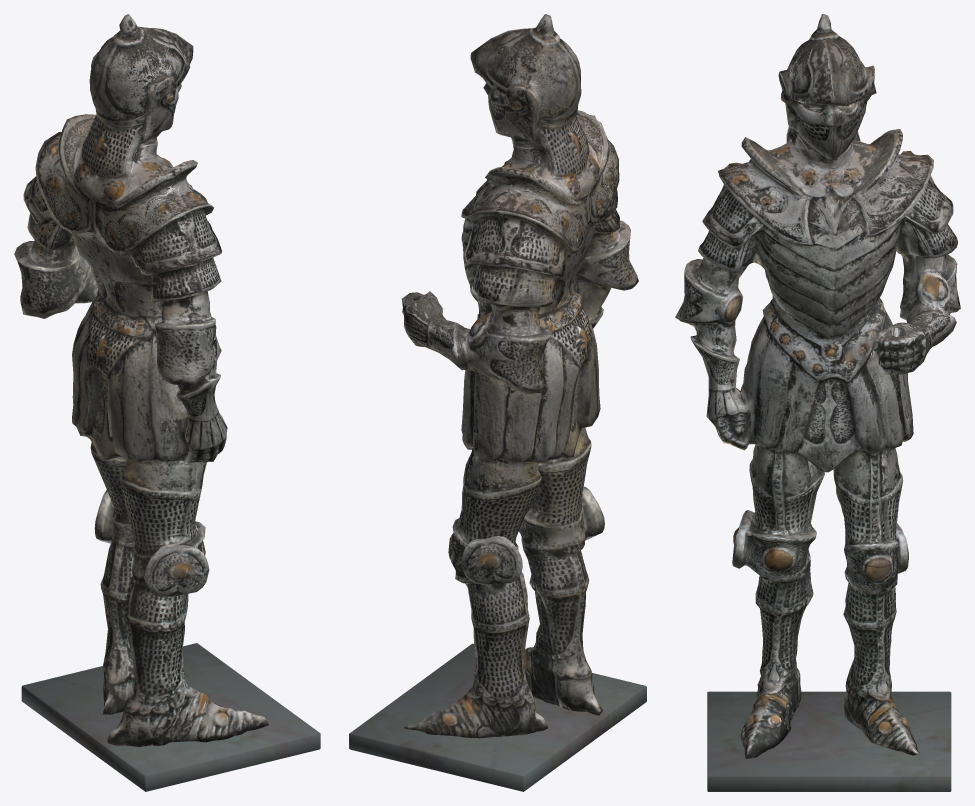
File: Armor.fbx
The picture shows the model from 3 angles, left to right: view 1: azimuth 30°, elevation 25°; view 2: azimuth 150°, elevation 25°; view 3: azimuth 270°, elevation 25°; orthographic projection.
Parts seen in each view (by area): view 1: SM_Armor_LOD0; view 2: SM_Armor_LOD0; view 3: SM_Armor_LOD0.
Part boxes in pixels (left/top/right/bottom): SM_Armor_LOD0: left=14, top=14, right=320, bottom=791; SM_Armor_LOD0: left=349, top=14, right=646, bottom=791; SM_Armor_LOD0: left=675, top=14, right=960, bottom=791.
Size of the model in its own units: 52.49 by 190 by 68.9.
